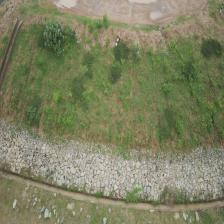rock_toe: (0, 120, 224, 203)
slope_drain: (0, 18, 23, 88)
